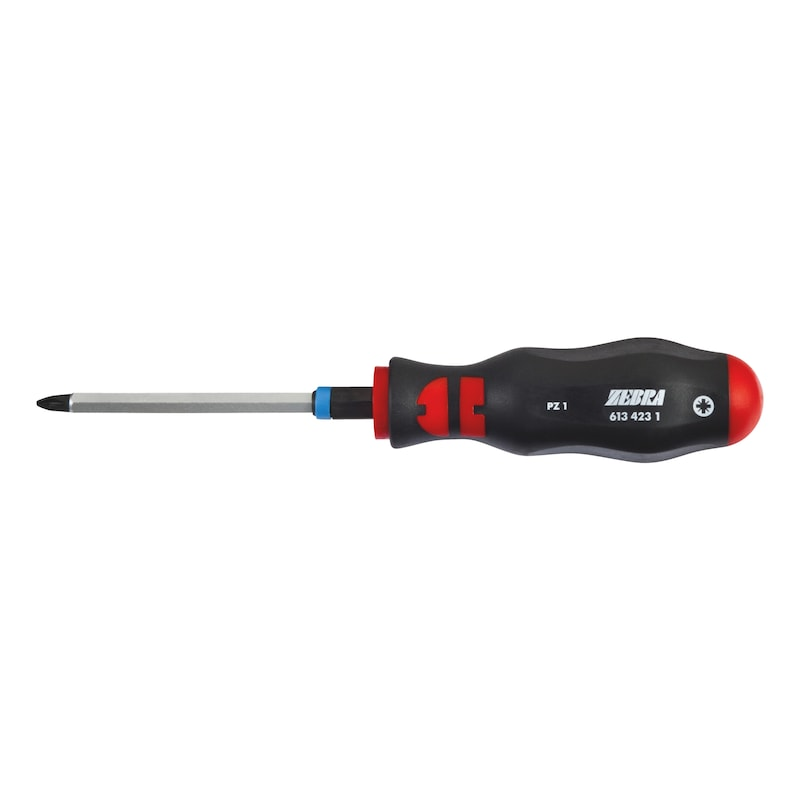screwdriver: (35, 335, 766, 467)
